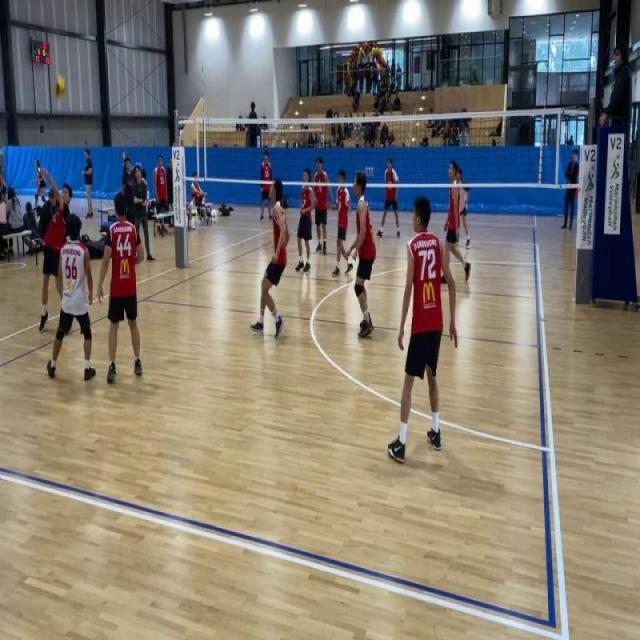volleyball: (52, 74, 67, 99), (100, 231, 107, 238)
